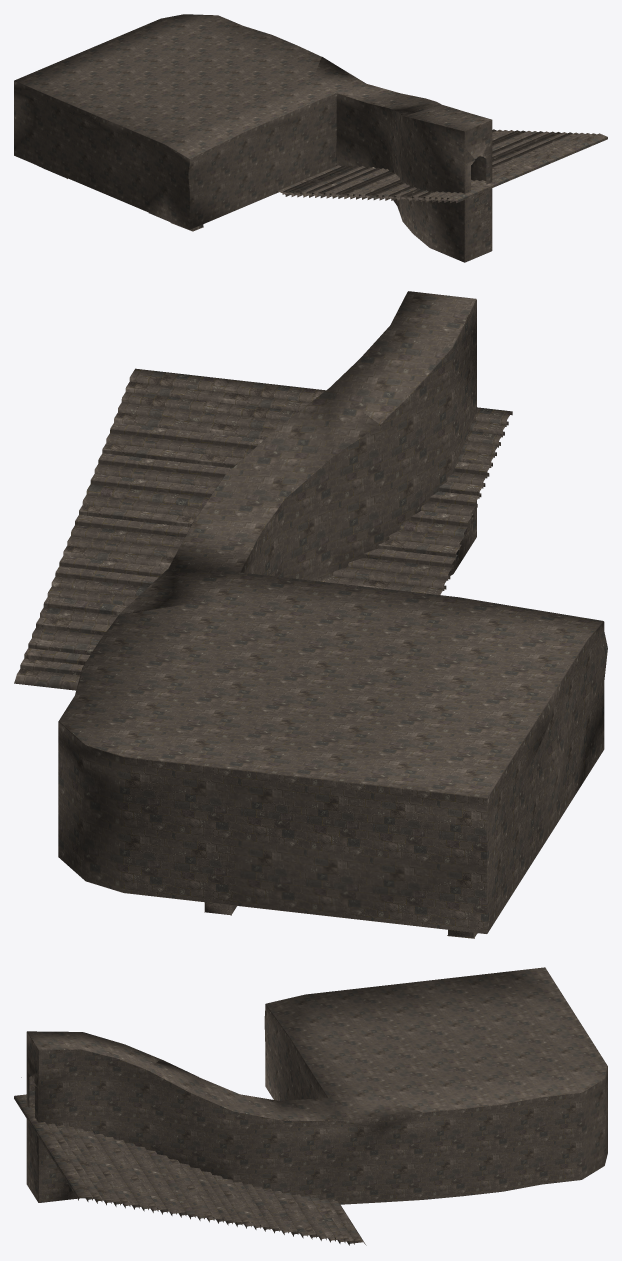
File: Main House.fbx
The picture shows the model from 3 angles, top to bottom: view 1: azimuth 30°, elevation 25°; view 2: azimuth 150°, elevation 25°; view 3: azimuth 270°, elevation 25°; orthographic projection. The views are drawn at different scales.
Visible parts, largest first — view 1: wall_0; view 2: wall_0; view 3: wall_0.
Part boxes in pixels (left/top/right/bottom): wall_0: left=14, top=14, right=607, bottom=262; wall_0: left=14, top=291, right=607, bottom=938; wall_0: left=14, top=967, right=607, bottom=1245.
Bounding box in the file's own units: 21.92 × 7.4 × 24.56.
Materials: 1 (1 with a texture image).
